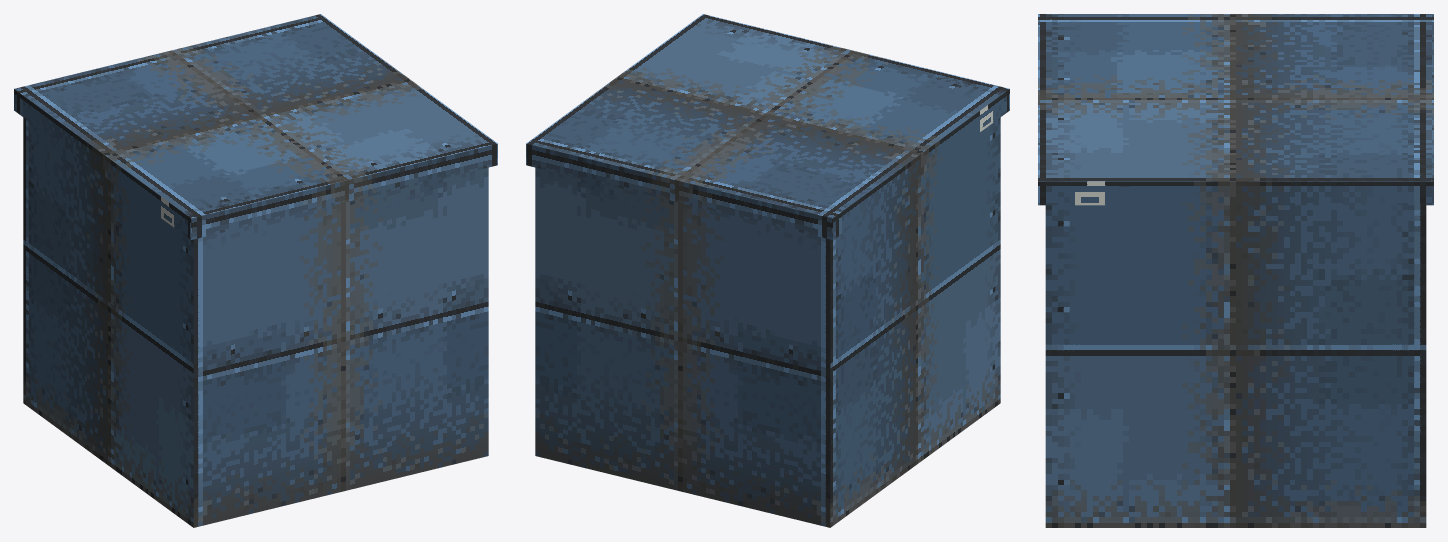
File: prop_crate.glb
3 views of the same model, side by side, from view 1: azimuth 30°, elevation 25°; view 2: azimuth 150°, elevation 25°; view 3: azimuth 270°, elevation 25° (orthographic). The views are drawn at different scales.
Parts seen in each view (by area): view 1: prop_crate; view 2: prop_crate; view 3: prop_crate.
Boxes of the visible parts, left/top/right/bottom form: prop_crate: left=14, top=14, right=497, bottom=527; prop_crate: left=526, top=14, right=1009, bottom=527; prop_crate: left=1038, top=14, right=1433, bottom=527.
Bounding box in the file's own units: 1.04 × 1.01 × 1.04.
1 material, 1 textured.
